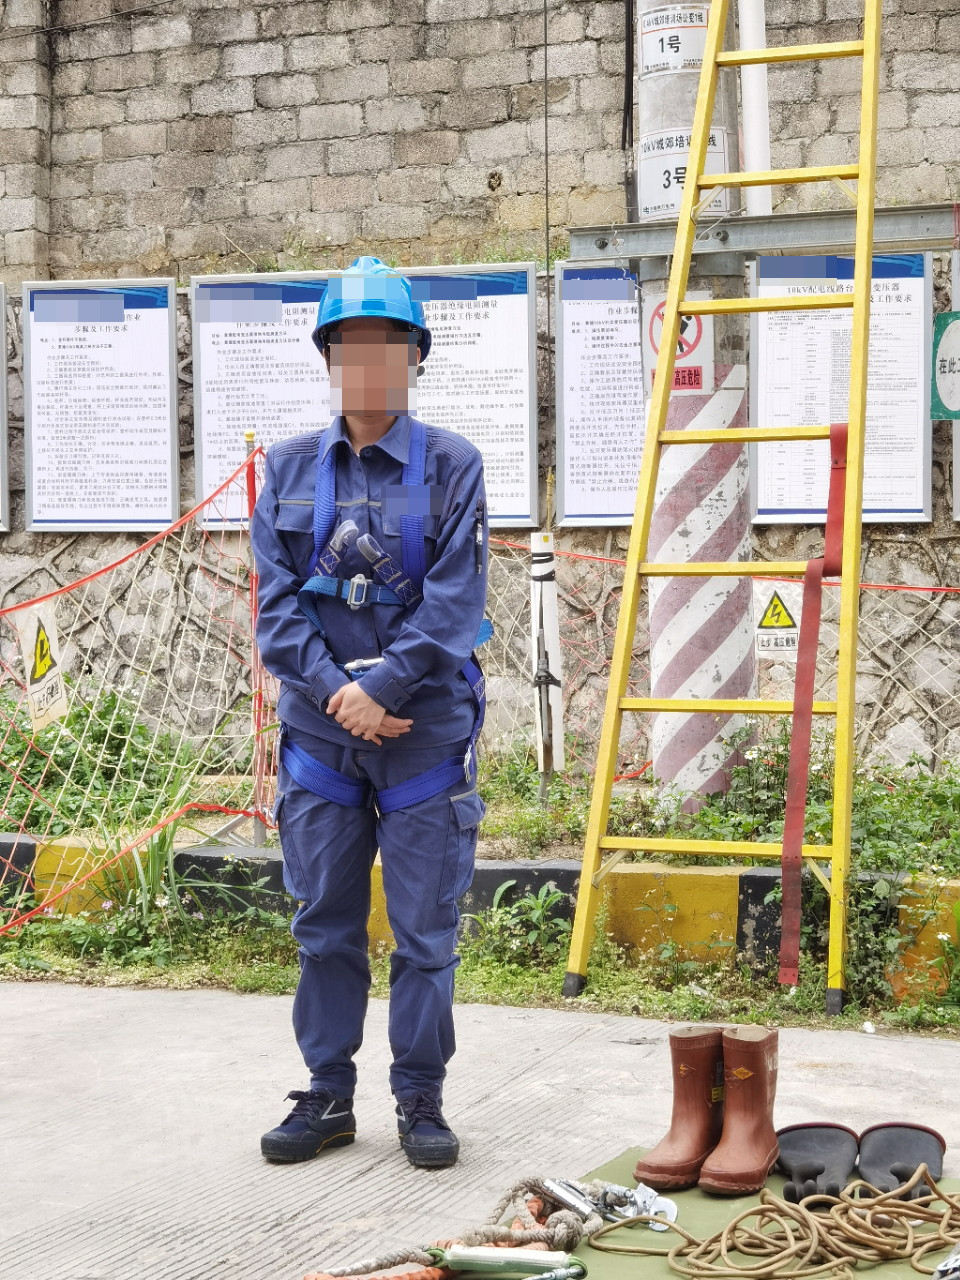downsuit: (271, 698, 491, 1101)
halt: (310, 258, 435, 428)
hand: (327, 684, 408, 748)
inear: (399, 335, 428, 386)
person: (244, 258, 511, 1159)
safebelt: (270, 410, 496, 824)
upsuit: (247, 410, 497, 733)
worksign: (927, 308, 960, 421)
